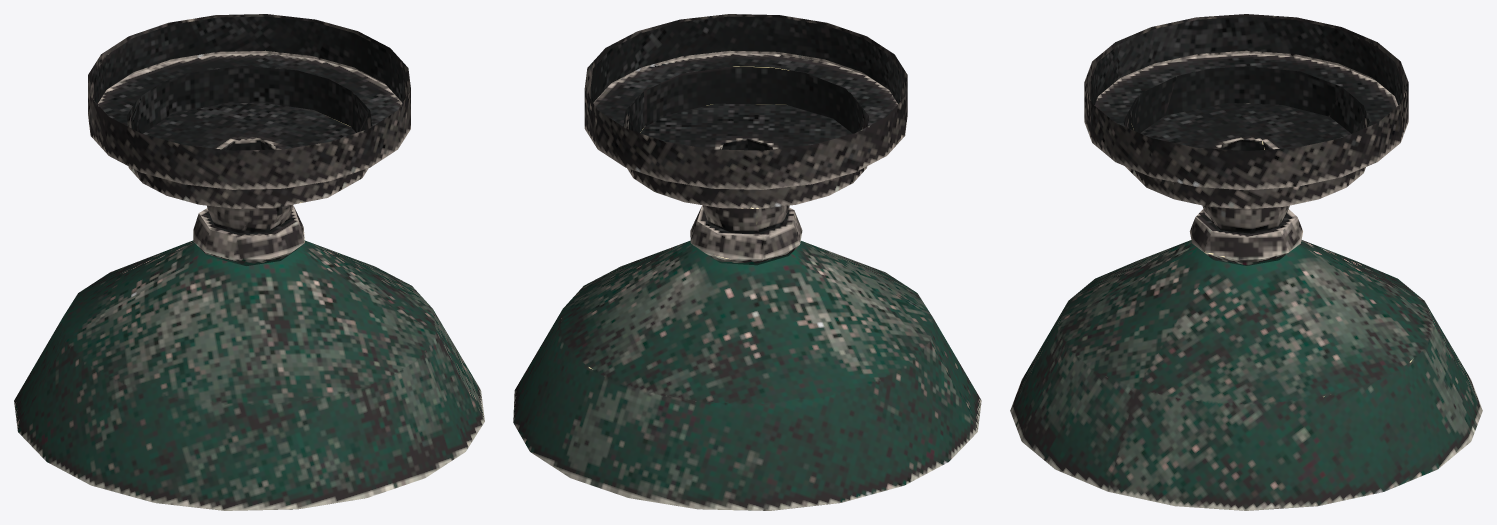
File: CeilingLight.fbx
The picture shows the model from 3 angles, left to right: view 1: azimuth 30°, elevation 25°; view 2: azimuth 150°, elevation 25°; view 3: azimuth 270°, elevation 25°; orthographic projection.
Visible parts, largest first — view 1: CeilingLight; view 2: CeilingLight; view 3: CeilingLight.
Boxes of the visible parts, bbox=[...] form: CeilingLight: bbox=[14, 14, 484, 510]; CeilingLight: bbox=[513, 14, 981, 510]; CeilingLight: bbox=[1010, 14, 1482, 510].
Bounding box in the file's own units: 40.02 × 39.81 × 30.9.
